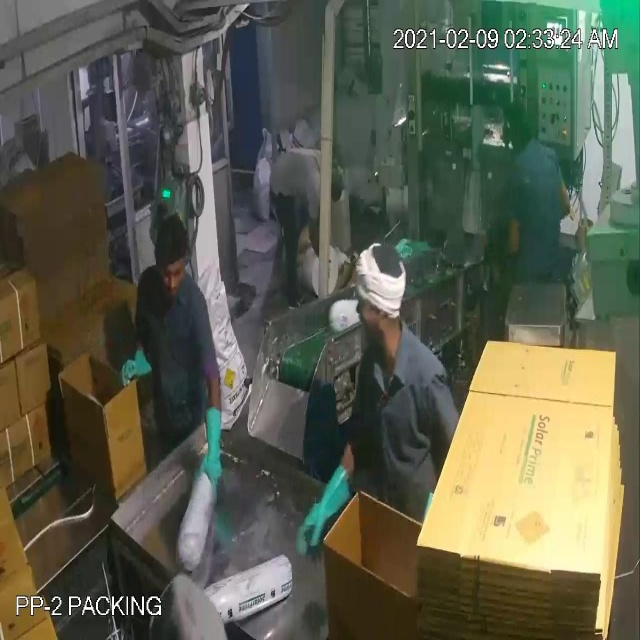Guantes: (289, 453, 360, 569), (189, 394, 234, 517), (115, 332, 156, 398)
